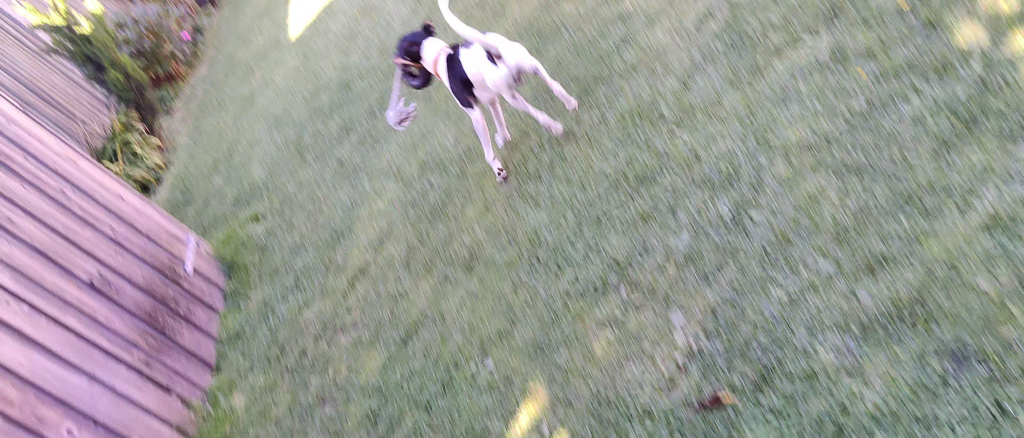Dog: (377, 0, 592, 189)
